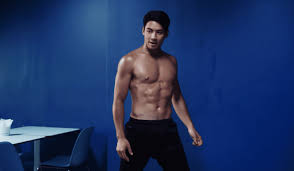asian_male: (138, 7, 166, 52)
